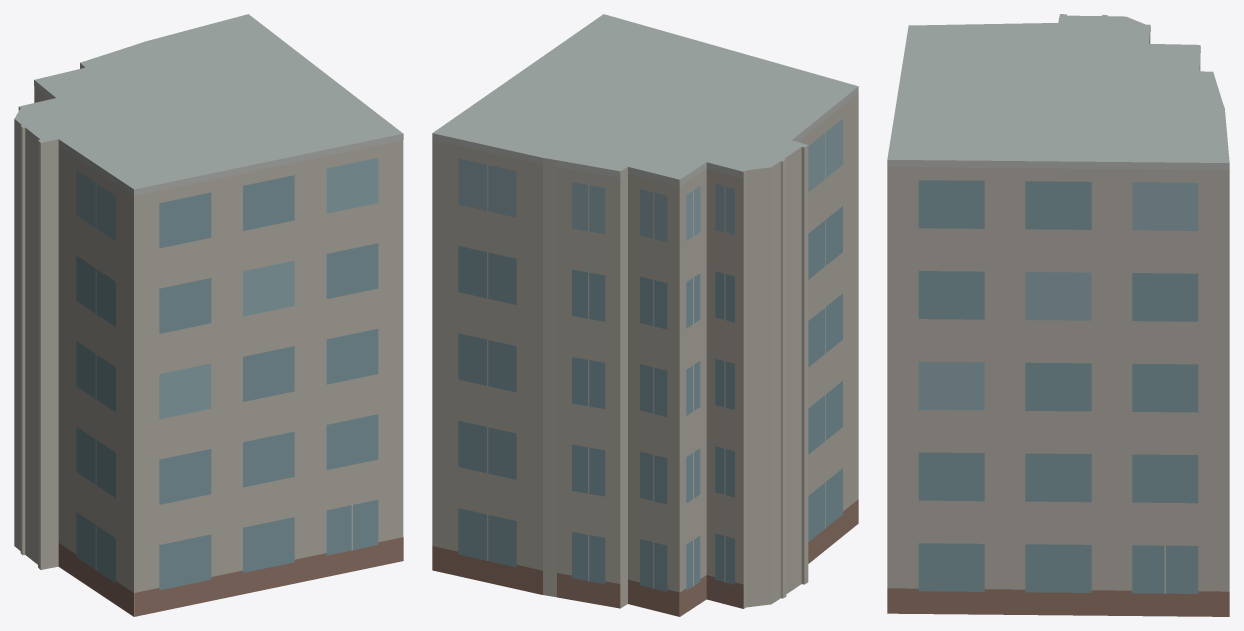
File: survey-upis-32918880.glb
The picture shows the model from 3 angles, left to right: view 1: azimuth 30°, elevation 25°; view 2: azimuth 150°, elevation 25°; view 3: azimuth 270°, elevation 25°; orthographic projection. The views are drawn at different scales.
Visible parts, largest first — view 1: survey-upis-32918880.tmp; view 2: survey-upis-32918880.tmp; view 3: survey-upis-32918880.tmp.
Boxes of the visible parts, x1=… form: survey-upis-32918880.tmp: x1=14, y1=14, x2=403, y2=616; survey-upis-32918880.tmp: x1=432, y1=14, x2=858, y2=616; survey-upis-32918880.tmp: x1=887, y1=14, x2=1229, y2=616.
Size of the model in its own units: 11.21 by 15.9 by 10.89.
